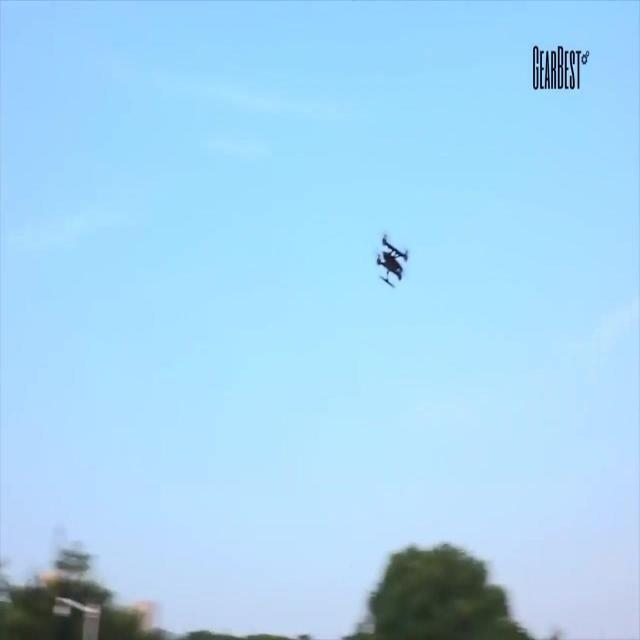UAV: (376, 233, 408, 288)
